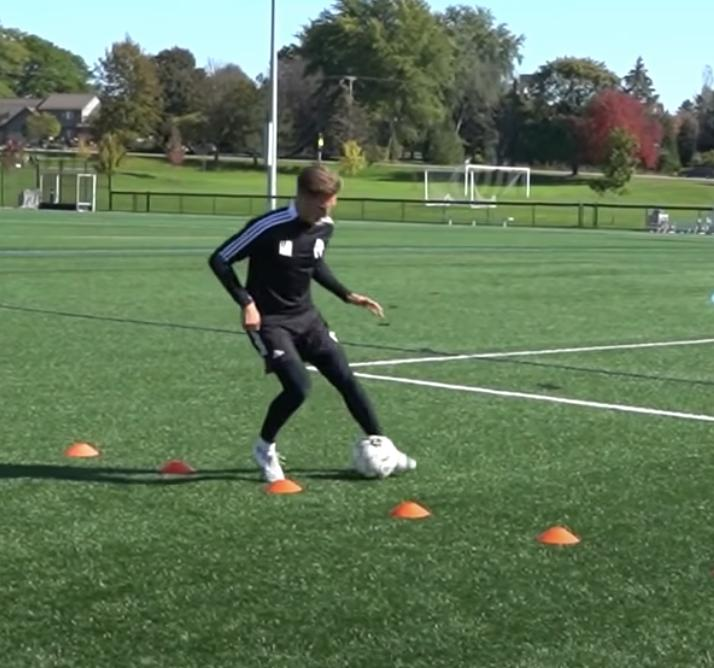ball: (355, 436, 396, 478)
foot: (255, 443, 285, 481)
person: (209, 167, 415, 482)
